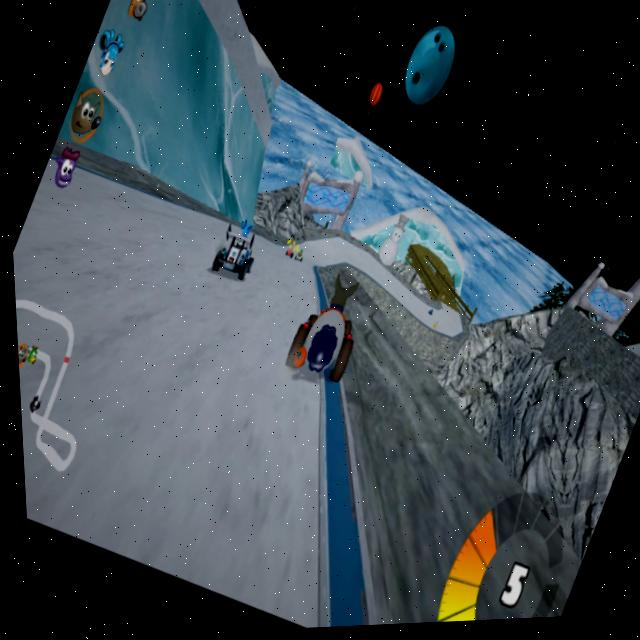enemy_kart: (207, 216, 268, 288), (421, 309, 435, 322)
off_track: (368, 310, 632, 522)
player_kart: (268, 271, 373, 389)
track: (314, 237, 389, 284)
